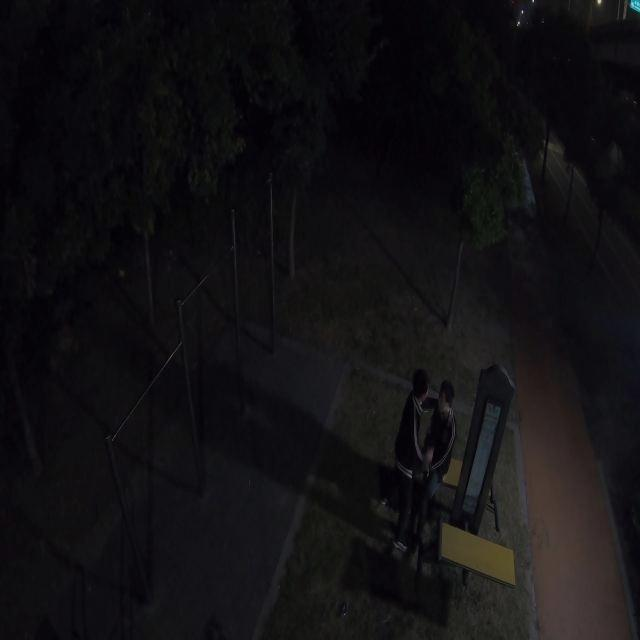fight: (386, 370, 459, 581)
